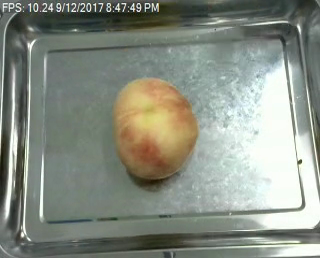Peach: (112, 77, 198, 178)
